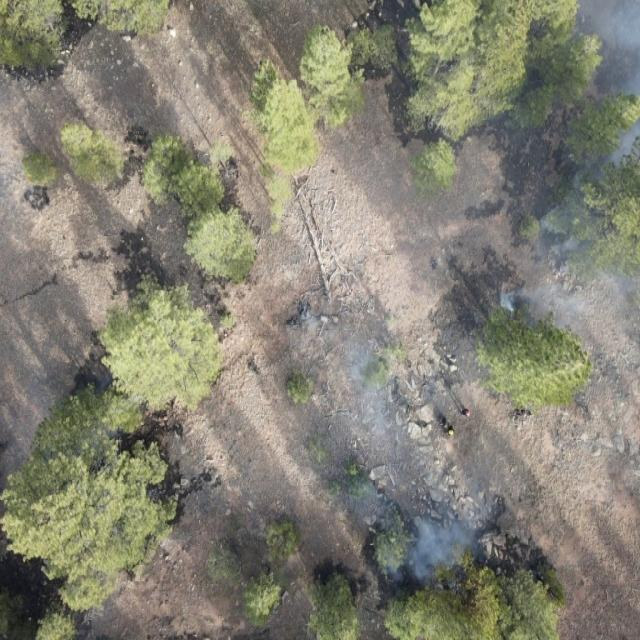smoke: (263, 304, 506, 601), (495, 0, 640, 315)
